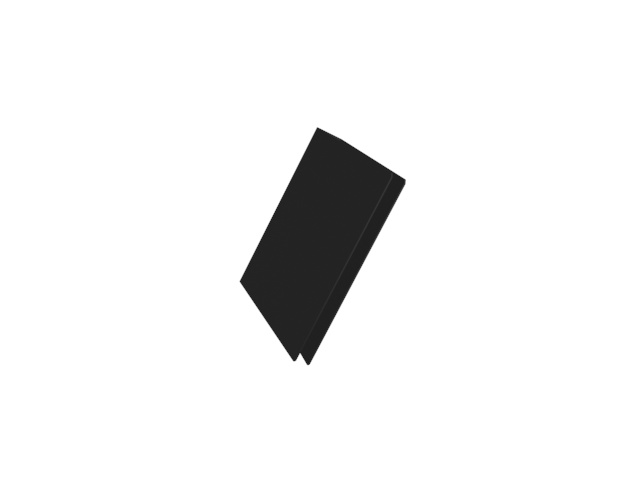ring_binder: (233, 121, 408, 368)
